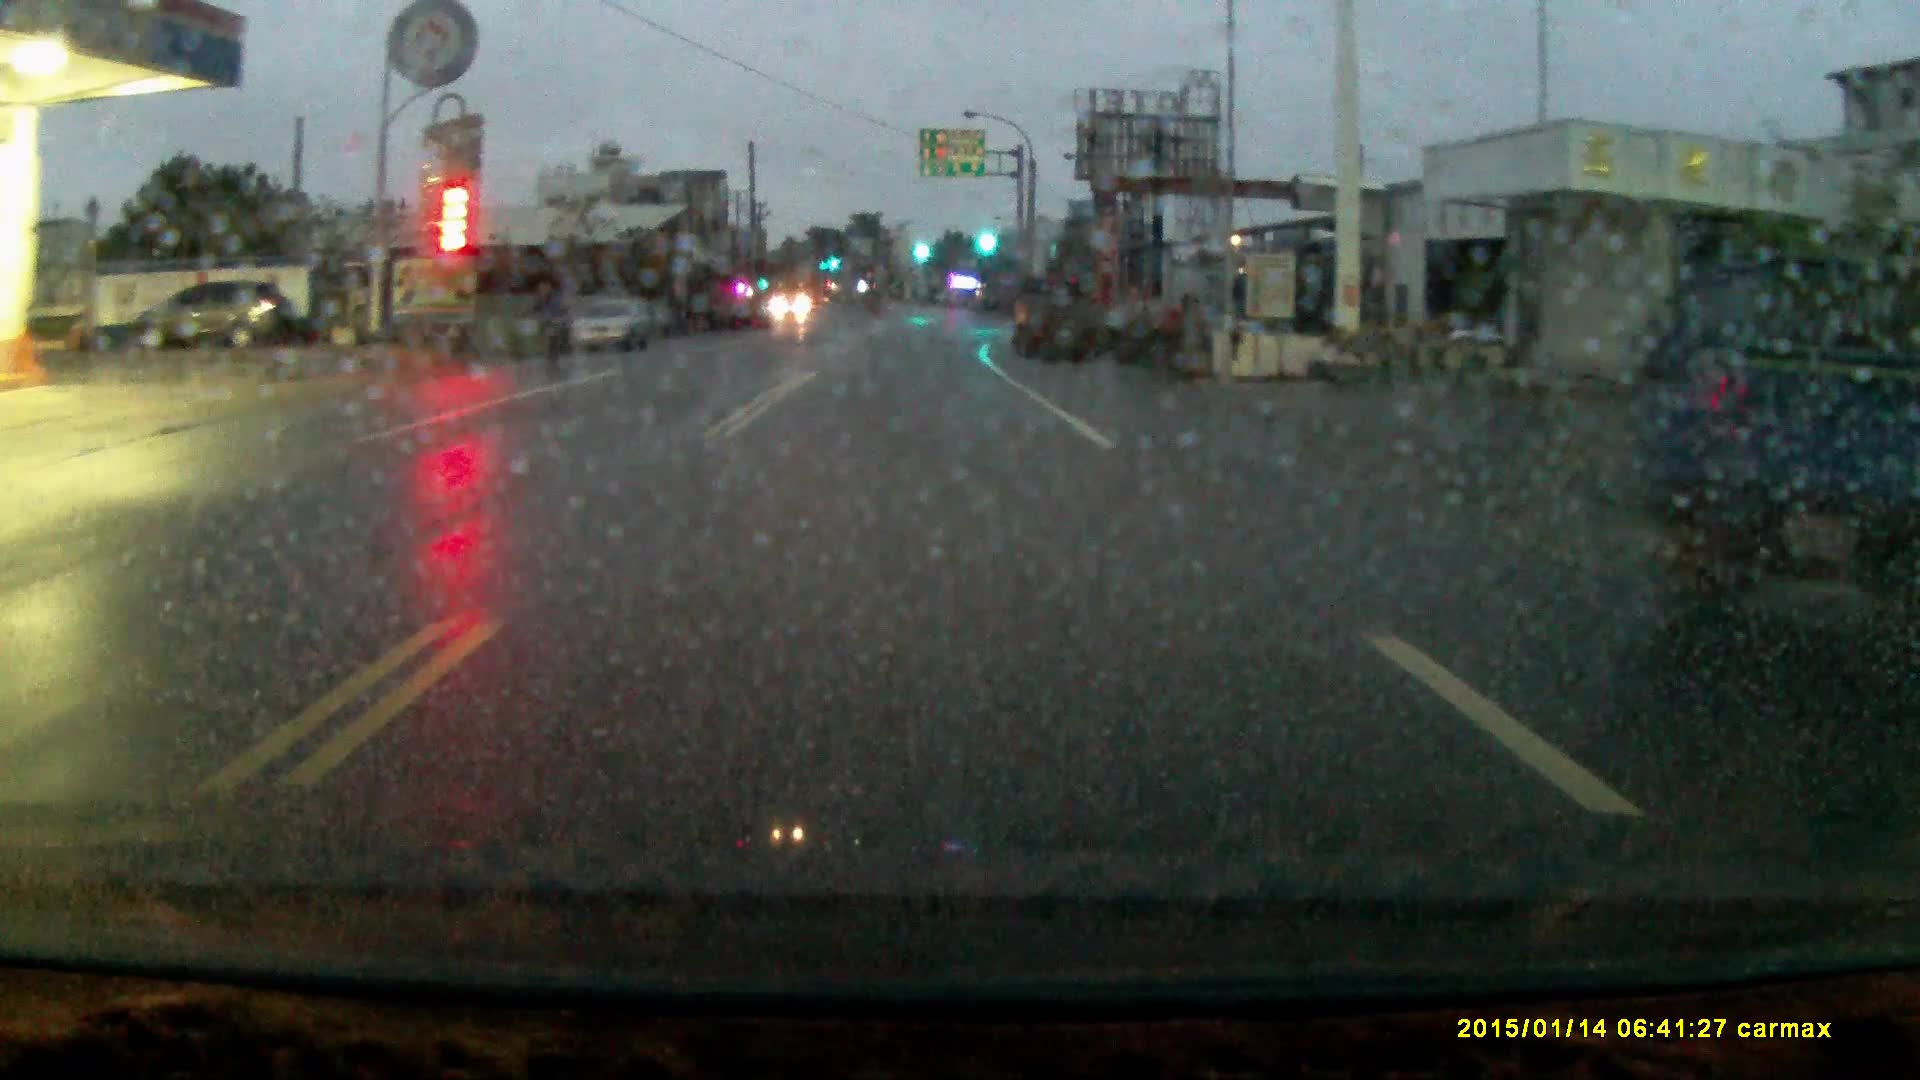rider: (519, 255, 580, 380)
vehicle: (1663, 261, 1896, 590), (124, 279, 300, 350), (1008, 268, 1103, 368), (566, 298, 672, 356)
